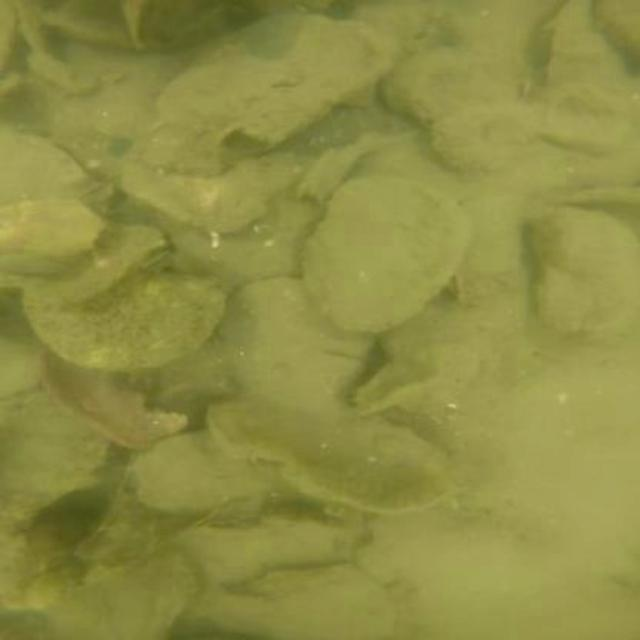Oyster-Closed: (200, 391, 482, 518), (159, 11, 397, 149), (297, 175, 471, 331), (19, 264, 235, 367), (120, 150, 308, 238), (30, 352, 188, 452), (193, 565, 397, 637), (511, 472, 623, 603), (46, 546, 193, 638), (134, 430, 279, 518), (381, 43, 530, 128), (31, 215, 172, 303), (430, 100, 540, 170), (540, 85, 633, 152), (136, 253, 174, 278)
Oyster-Open: (525, 185, 638, 340)
